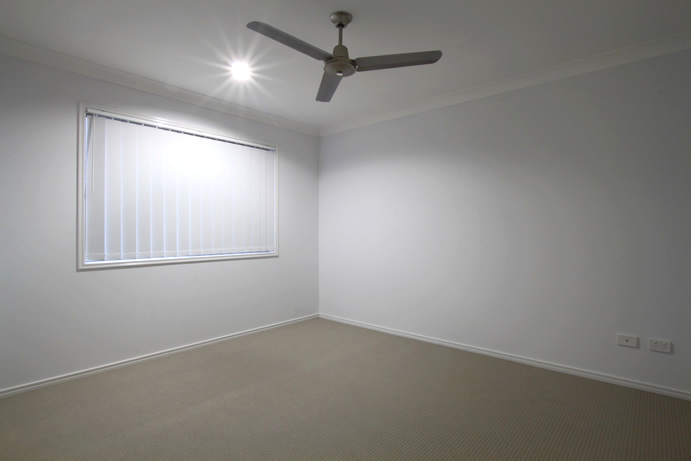ceiling fan: (232, 4, 455, 102)
